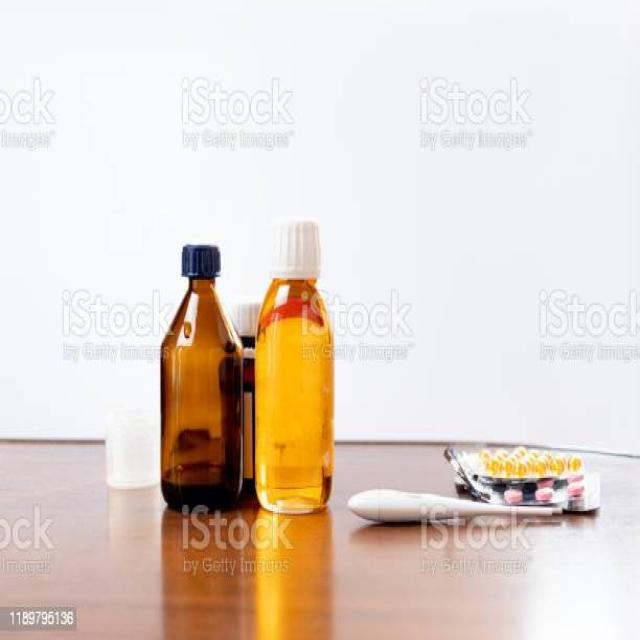B3: (242, 198, 354, 514), (154, 225, 251, 519), (436, 436, 594, 489)
